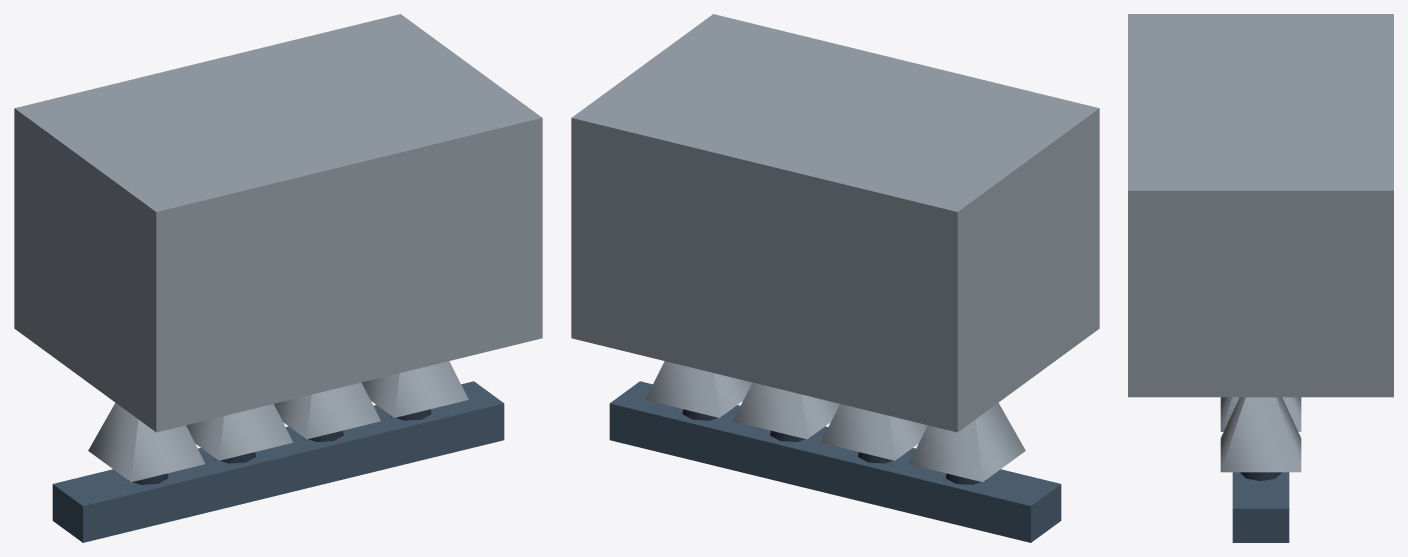
Rendered from esp.glb.
3 renders of one model, left to right at view 1: azimuth 30°, elevation 25°; view 2: azimuth 150°, elevation 25°; view 3: azimuth 270°, elevation 25°, orthographic. The views are drawn at different scales.
Bounding box in the file's own units: 24 × 20 × 14.
